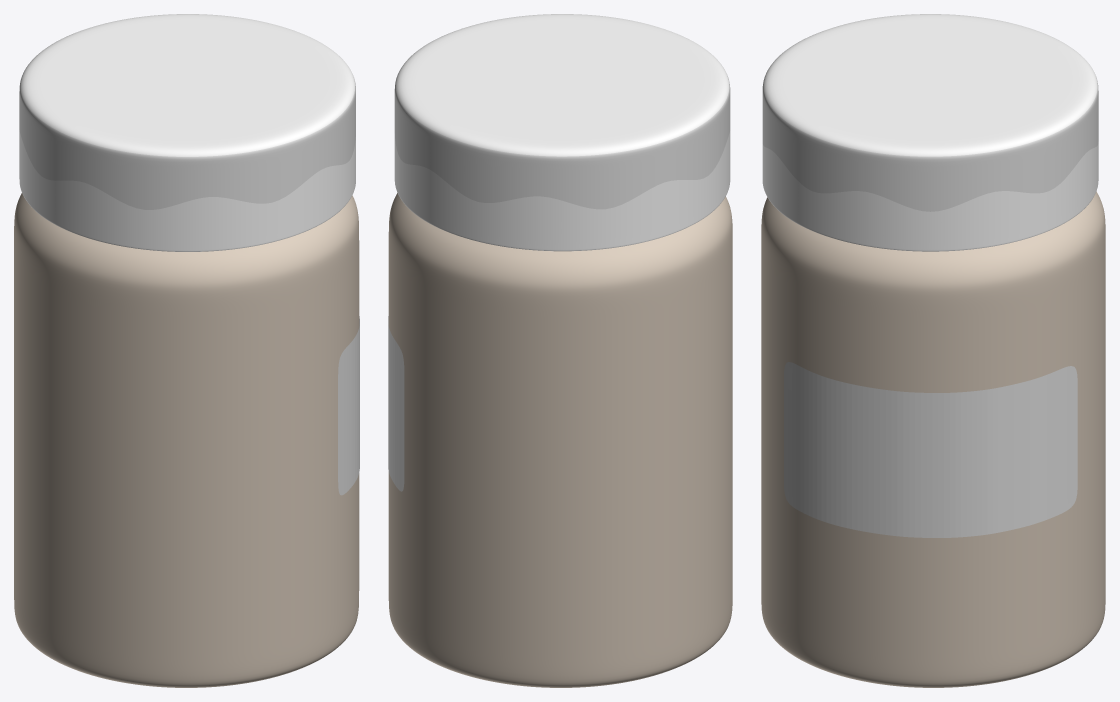
The picture shows the model from 3 angles, left to right: view 1: azimuth 30°, elevation 25°; view 2: azimuth 150°, elevation 25°; view 3: azimuth 270°, elevation 25°; orthographic projection.
Visible parts, largest first — view 1: Vial - Scintillation - 20 mL, Vial - Scintillation - 20 mL.001, Plane; view 2: Vial - Scintillation - 20 mL, Vial - Scintillation - 20 mL.001, Plane; view 3: Vial - Scintillation - 20 mL, Vial - Scintillation - 20 mL.001, Plane.
Part boxes in pixels (<box>): Vial - Scintillation - 20 mL: <box>14,193,359,687</box>; Vial - Scintillation - 20 mL.001: <box>19,14,355,251</box>; Plane: <box>338,316,359,495</box>; Vial - Scintillation - 20 mL: <box>388,193,732,687</box>; Vial - Scintillation - 20 mL.001: <box>394,14,730,251</box>; Plane: <box>388,316,404,491</box>; Vial - Scintillation - 20 mL: <box>761,191,1105,687</box>; Vial - Scintillation - 20 mL.001: <box>762,14,1098,251</box>; Plane: <box>784,362,1077,537</box>.
Bounding box in the file's own units: 155 × 266 × 154.
